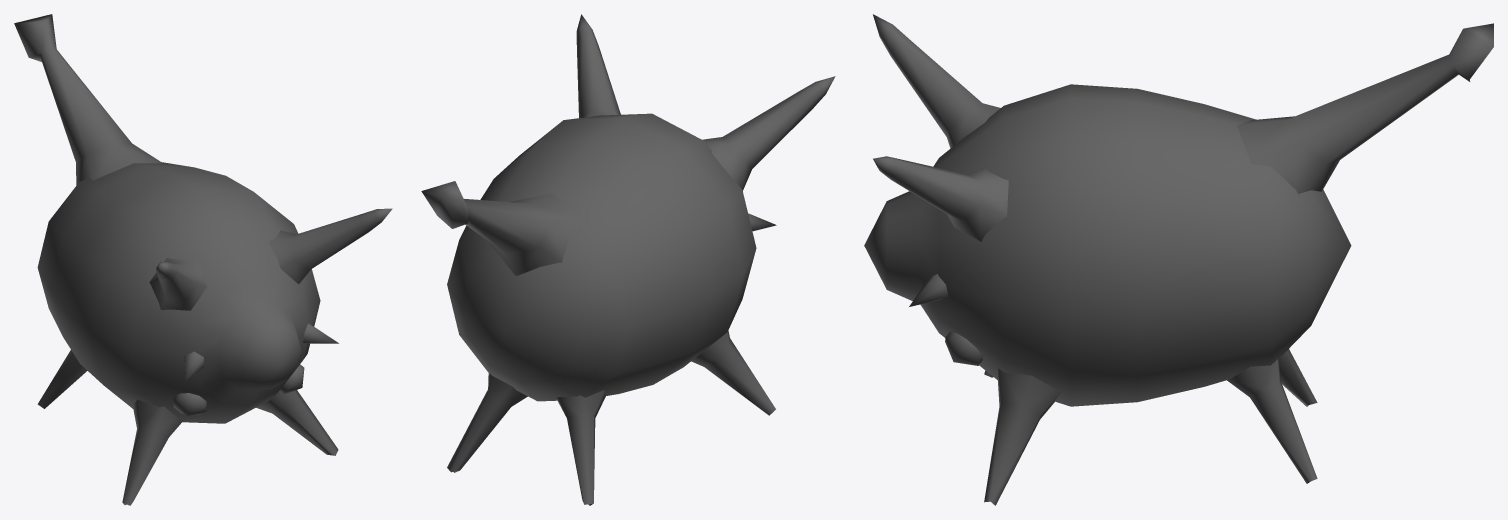
3 views of the same model, side by side, from view 1: azimuth 30°, elevation 25°; view 2: azimuth 150°, elevation 25°; view 3: azimuth 270°, elevation 25° (orthographic). The views are drawn at different scales.
Visible parts, largest first — view 1: default029; view 2: default029; view 3: default029.
Boxes of the visible parts, left/top/right/bottom form: default029: left=14, top=14, right=392, bottom=505; default029: left=421, top=14, right=835, bottom=505; default029: left=864, top=14, right=1493, bottom=505.
Size of the model in its own units: 8810 by 11839 by 16201.
